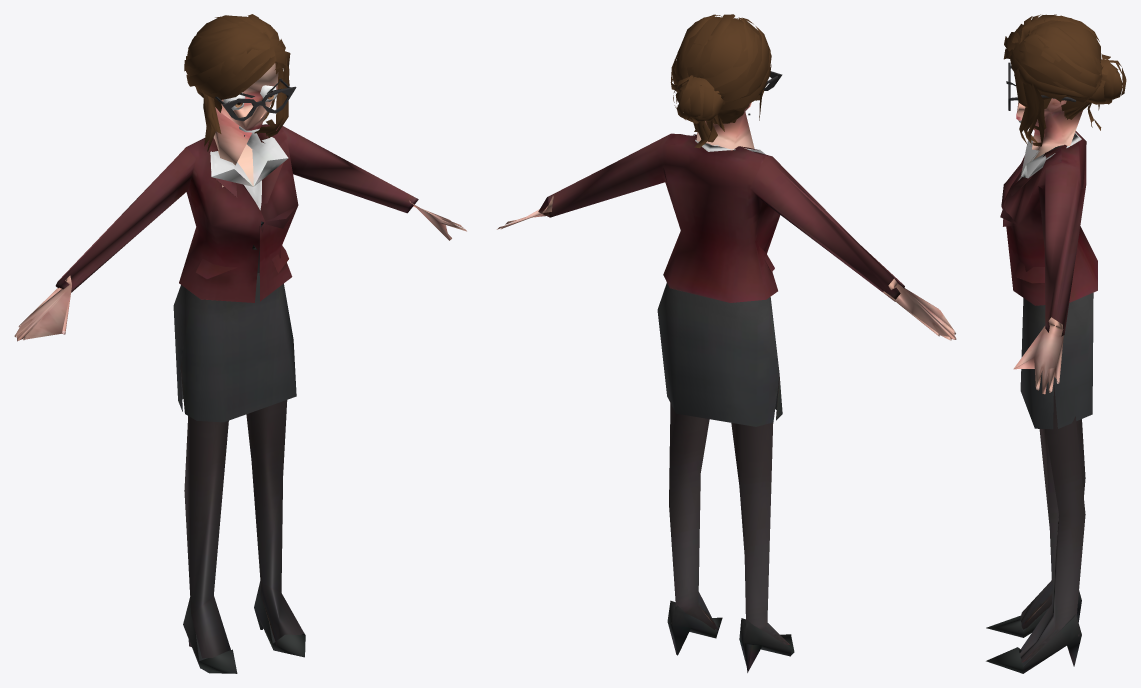
File: Teacher.glb
The picture shows the model from 3 angles, left to right: view 1: azimuth 30°, elevation 25°; view 2: azimuth 150°, elevation 25°; view 3: azimuth 270°, elevation 25°; orthographic projection.
Parts seen in each view (by area): view 1: Obj3d66-13106882-2-196, Obj3d66-13106882-9-872, Obj3d66-13106882-3-755, Obj3d66-13106882-4-184; view 2: Obj3d66-13106882-2-196, Obj3d66-13106882-9-872, Obj3d66-13106882-3-755; view 3: Obj3d66-13106882-2-196, Obj3d66-13106882-9-872, Obj3d66-13106882-3-755, Obj3d66-13106882-4-184.
Part boxes in pixels (<box>): Obj3d66-13106882-2-196: <box>55,124,418,673</box>; Obj3d66-13106882-9-872: <box>14,63,466,658</box>; Obj3d66-13106882-3-755: <box>184,14,290,151</box>; Obj3d66-13106882-4-184: <box>215,78,296,121</box>; Obj3d66-13106882-2-196: <box>538,133,904,672</box>; Obj3d66-13106882-9-872: <box>496,102,956,644</box>; Obj3d66-13106882-3-755: <box>670,14,771,148</box>; Obj3d66-13106882-2-196: <box>986,131,1097,673</box>; Obj3d66-13106882-9-872: <box>1013,98,1085,662</box>; Obj3d66-13106882-3-755: <box>1003,14,1126,146</box>; Obj3d66-13106882-4-184: <box>1008,62,1076,110</box>.
Bounding box in the file's own units: 0.7192 × 0.9593 × 0.1941.
Materials: 7 (3 with a texture image).
